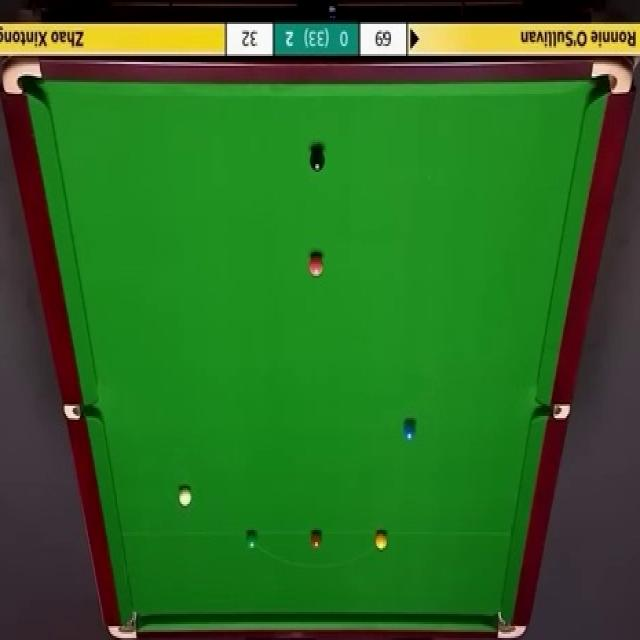black-ball: (309, 147, 325, 173)
blue-ball: (402, 419, 418, 441)
brown-ball: (310, 531, 323, 548)
green-ball: (244, 528, 258, 552)
pink-ball: (308, 250, 324, 278)
white-ball: (179, 484, 191, 507)
yellow-ball: (374, 530, 388, 551)
